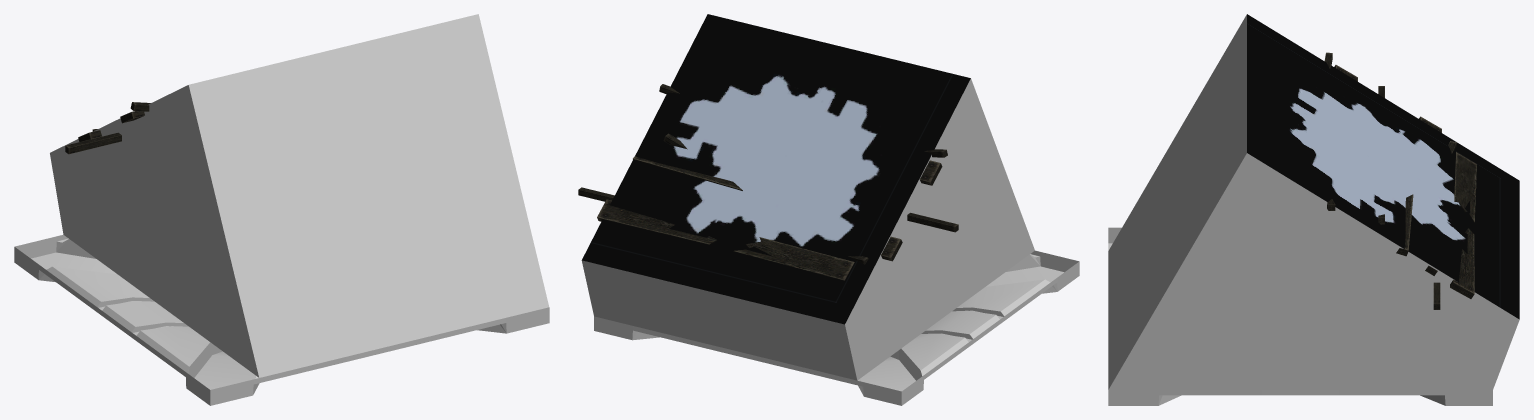
The model's file is arched_broken.dae.
3 views of the same model, side by side, from view 1: azimuth 30°, elevation 25°; view 2: azimuth 150°, elevation 25°; view 3: azimuth 270°, elevation 25° (orthographic). The views are drawn at different scales.
Visible parts, largest first — view 1: polySurface24, polySurface25, polySurface55; view 2: polySurface23, polySurface24, polySurface25, polySurface55; view 3: polySurface24, polySurface23, polySurface25, polySurface55.
Boxes of the visible parts, bbox=[...] form: polySurface24: bbox=[50, 14, 548, 377]; polySurface25: bbox=[14, 234, 549, 405]; polySurface55: bbox=[65, 102, 150, 154]; polySurface23: bbox=[582, 14, 970, 324]; polySurface24: bbox=[581, 79, 1034, 380]; polySurface25: bbox=[594, 250, 1079, 405]; polySurface55: bbox=[578, 84, 958, 280]; polySurface24: bbox=[1108, 14, 1519, 390]; polySurface23: bbox=[1247, 14, 1519, 319]; polySurface25: bbox=[1108, 227, 1492, 405]; polySurface55: bbox=[1324, 52, 1476, 309].
Bounding box in the file's own units: 11.41 × 8.18 × 10.7.
